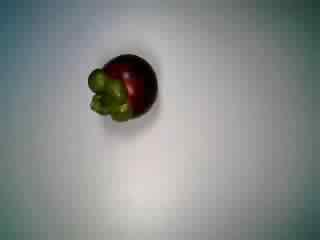mangosteen: (82, 48, 160, 124)
